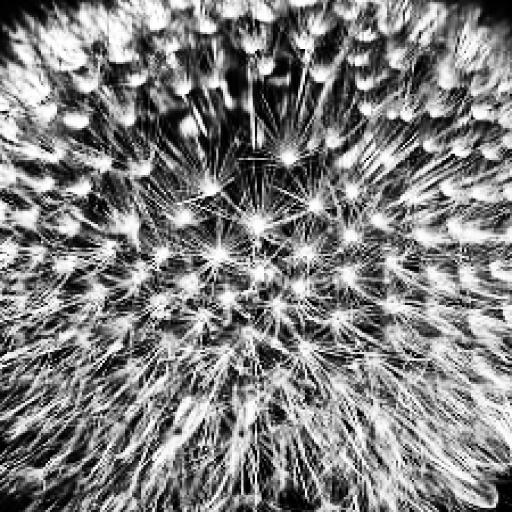dandelion: (0, 0, 510, 512)
